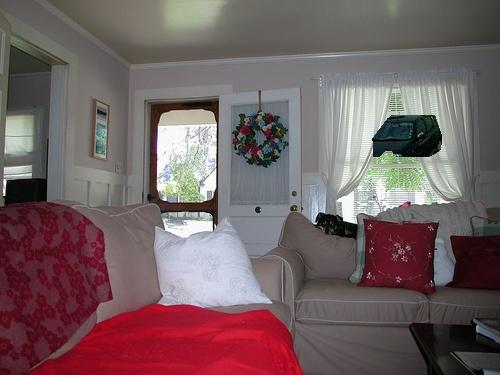tampered: (373, 116, 442, 157)
